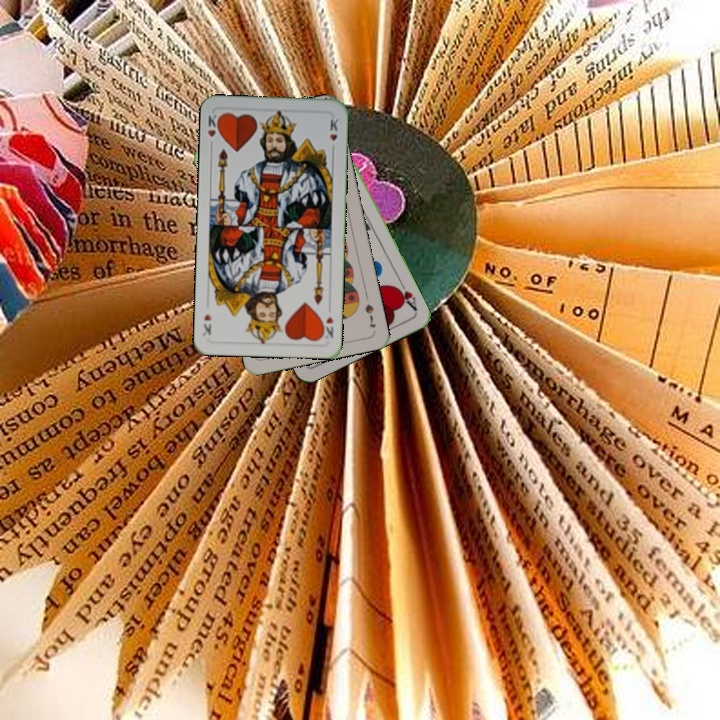HA: (391, 276, 420, 314)
HK: (203, 110, 223, 150), (318, 312, 336, 342)
S7: (361, 300, 378, 331)
